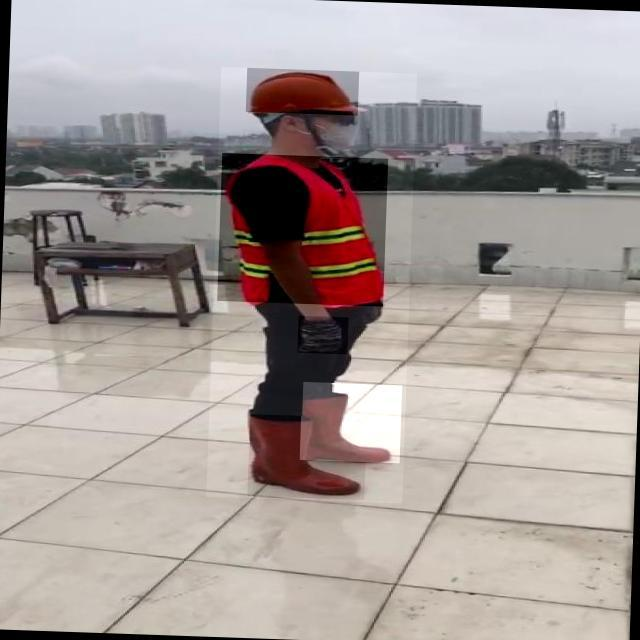Gloves: (298, 315, 349, 354)
Helmet: (245, 68, 359, 116)
Human: (206, 66, 417, 503)
Safety Boot: (247, 414, 368, 500), (301, 382, 404, 463)
Safety Vest: (217, 153, 388, 307)
